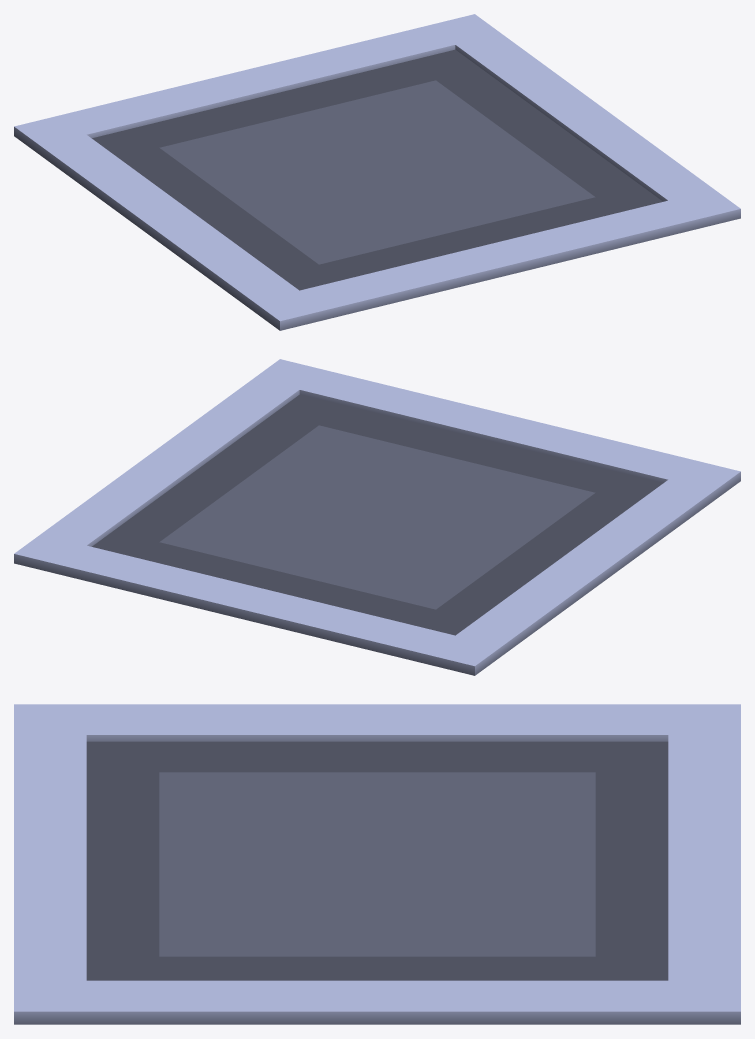
File: road-square.glb
3 views of the same model, one above another, from view 1: azimuth 30°, elevation 25°; view 2: azimuth 150°, elevation 25°; view 3: azimuth 270°, elevation 25° (orthographic). The views are drawn at different scales.
Visible parts, largest first — view 1: road-square; view 2: road-square; view 3: road-square.
Boxes of the visible parts, x1,y1,x2,y2 form: road-square: [14, 14, 740, 330]; road-square: [14, 359, 740, 675]; road-square: [14, 704, 740, 1024].
Bounding box in the file's own units: 1 × 0.02 × 1.
Materials: 1 (1 with a texture image).
